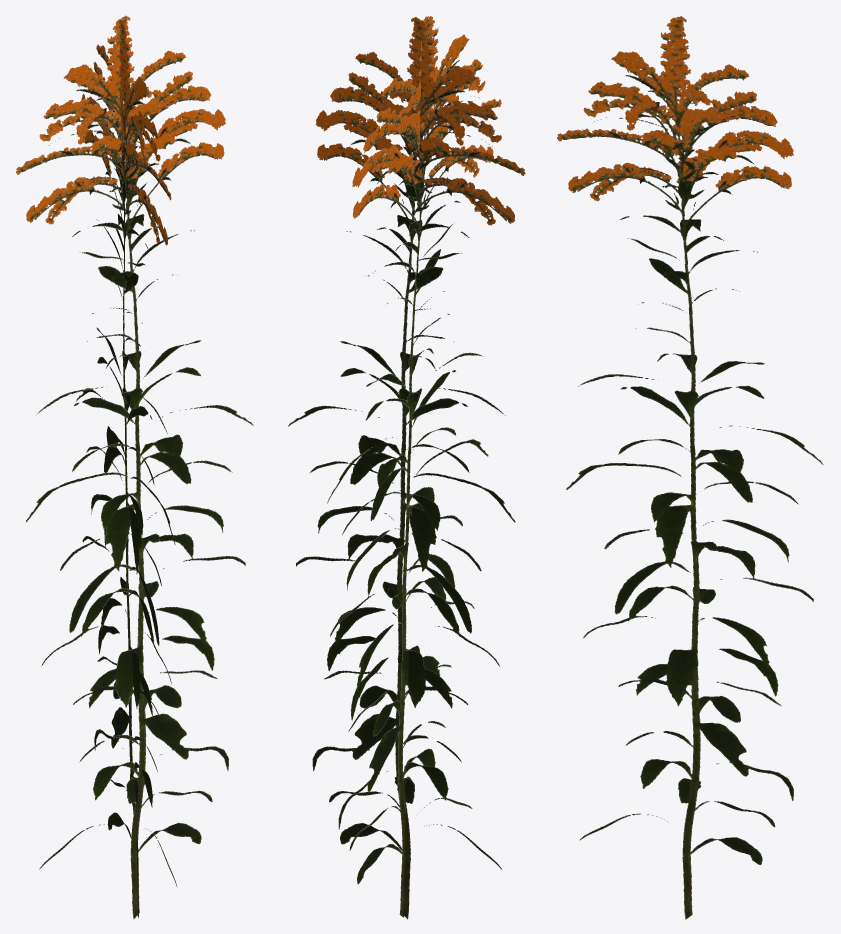
Rendered from GoldenRodFlowerBillboard.fbx.
The picture shows the model from 3 angles, left to right: view 1: azimuth 30°, elevation 25°; view 2: azimuth 150°, elevation 25°; view 3: azimuth 270°, elevation 25°; orthographic projection.
Parts seen in each view (by area): view 1: Billboard; view 2: Billboard; view 3: Billboard.
Boxes of the visible parts, x1,y1,x2,y2 form: Billboard: (16, 15, 253, 919); Billboard: (288, 16, 525, 919); Billboard: (557, 16, 823, 919).
Bounding box in the file's own units: 48.53 × 174 × 47.76.
